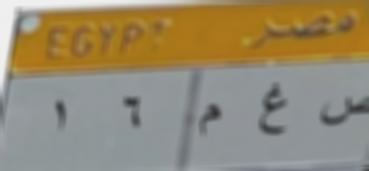1: (46, 94, 74, 138)
6: (120, 90, 151, 134)
ghayn: (254, 78, 291, 144)
meem: (190, 99, 225, 142)
saad: (314, 88, 369, 136)
